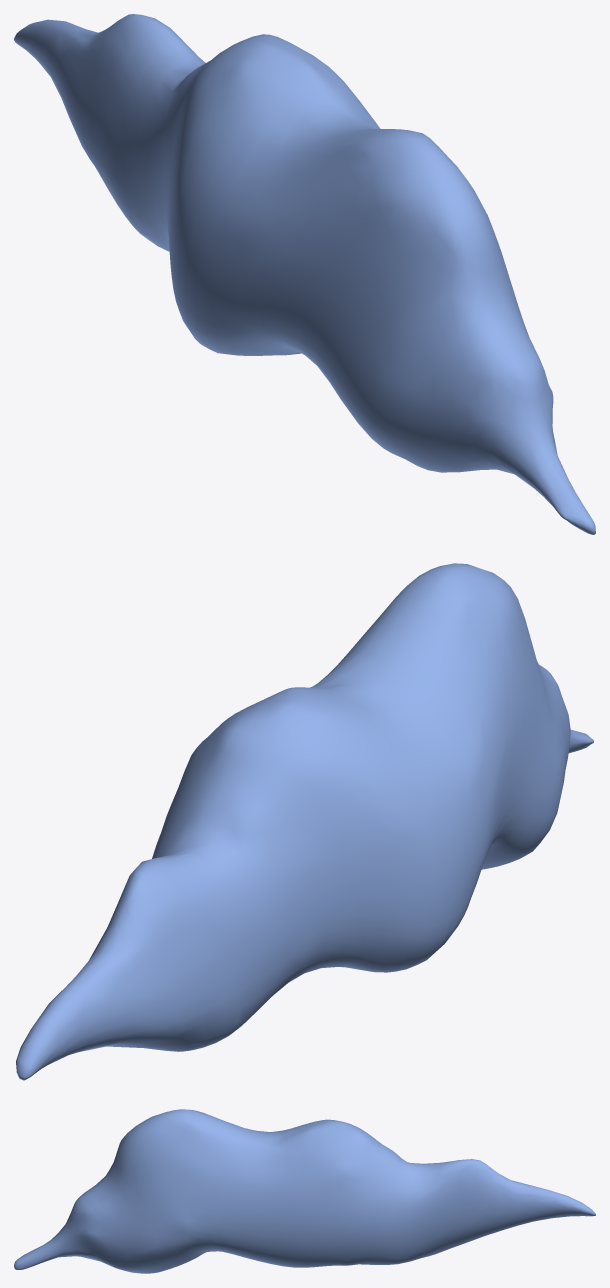
The model's file is bulut2.fbx.
3 views of the same model, one above another, from view 1: azimuth 30°, elevation 25°; view 2: azimuth 150°, elevation 25°; view 3: azimuth 270°, elevation 25° (orthographic). The views are drawn at different scales.
Parts seen in each view (by area): view 1: bulut2; view 2: bulut2; view 3: bulut2.
Part boxes in pixels (left/top/right/bottom): bulut2: left=14, top=14, right=595, bottom=534; bulut2: left=16, top=563, right=593, bottom=1080; bulut2: left=14, top=1109, right=595, bottom=1273.
Bounding box in the file's own units: 91.2 × 120 × 400.
